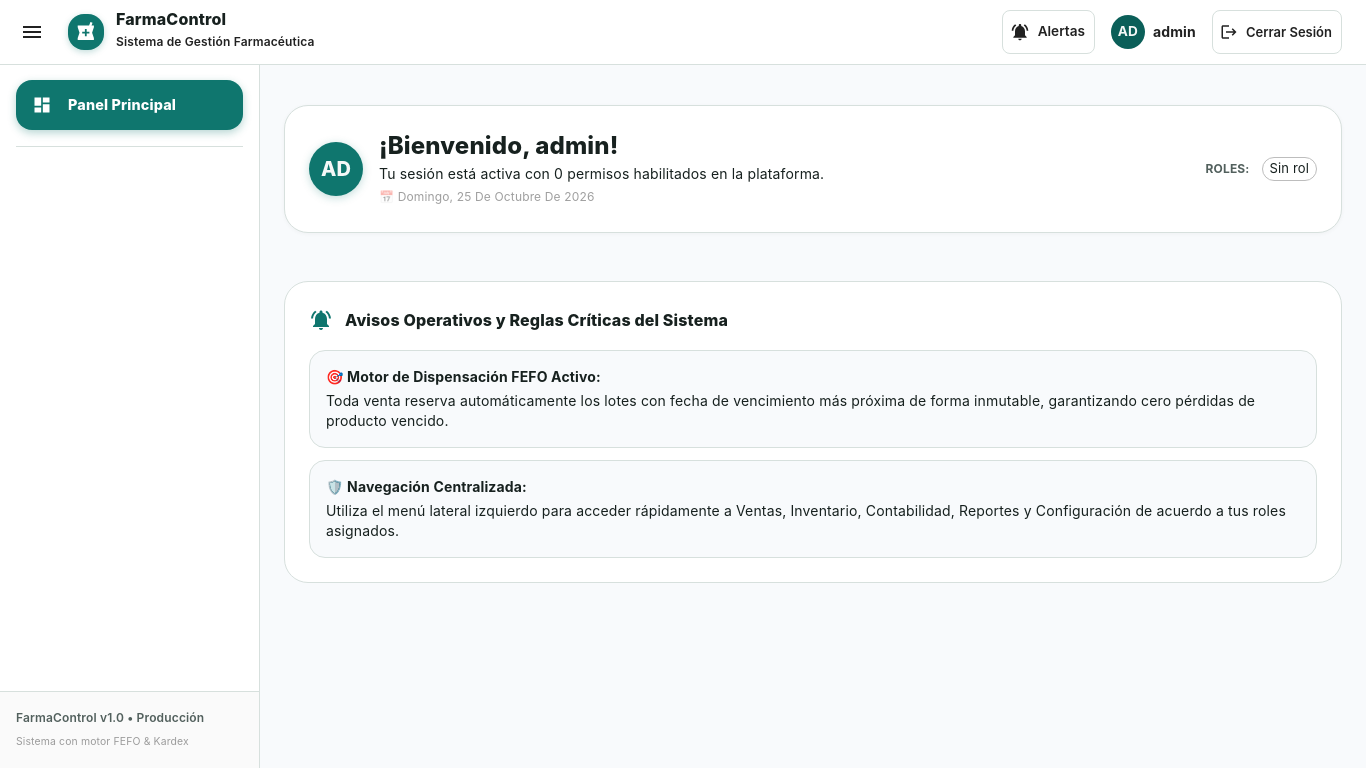
Test case: flujo frontend de autenticación › restaura una sesión existente y permite cerrarla
The width and height of the screenshot is (1366, 768).
Expected: the heading "¡Bienvenido, admin!" is shown, [379, 131, 618, 160]
Click the button "Cerrar Sesión": (1277,32) [1212, 10, 1342, 54]
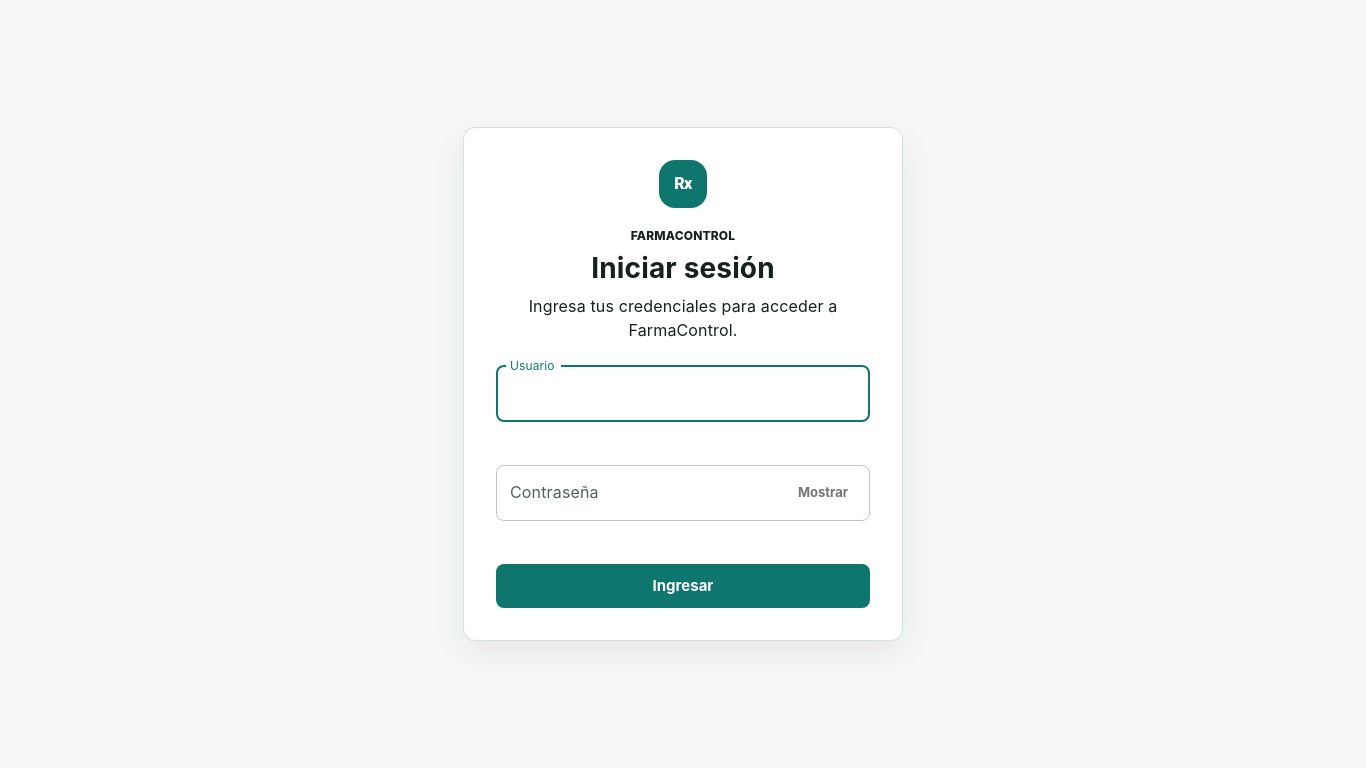
Result: the heading "Iniciar sesión" is shown at [591, 251, 775, 285]
